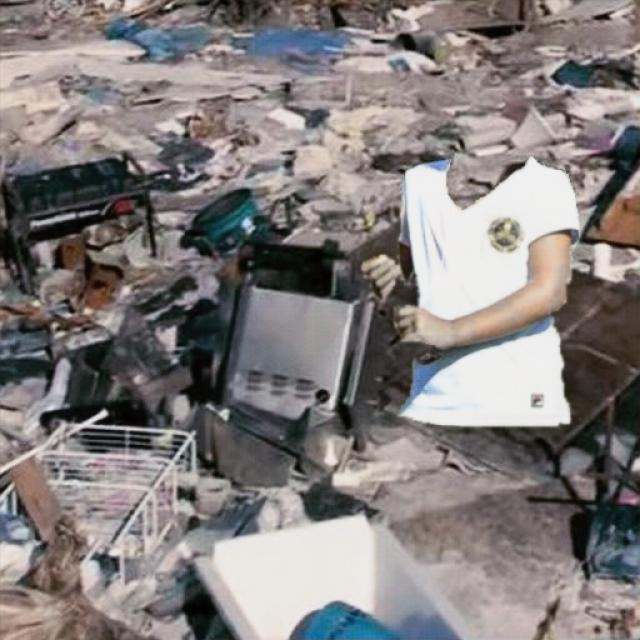Person in Rubble: (362, 156, 578, 425)
